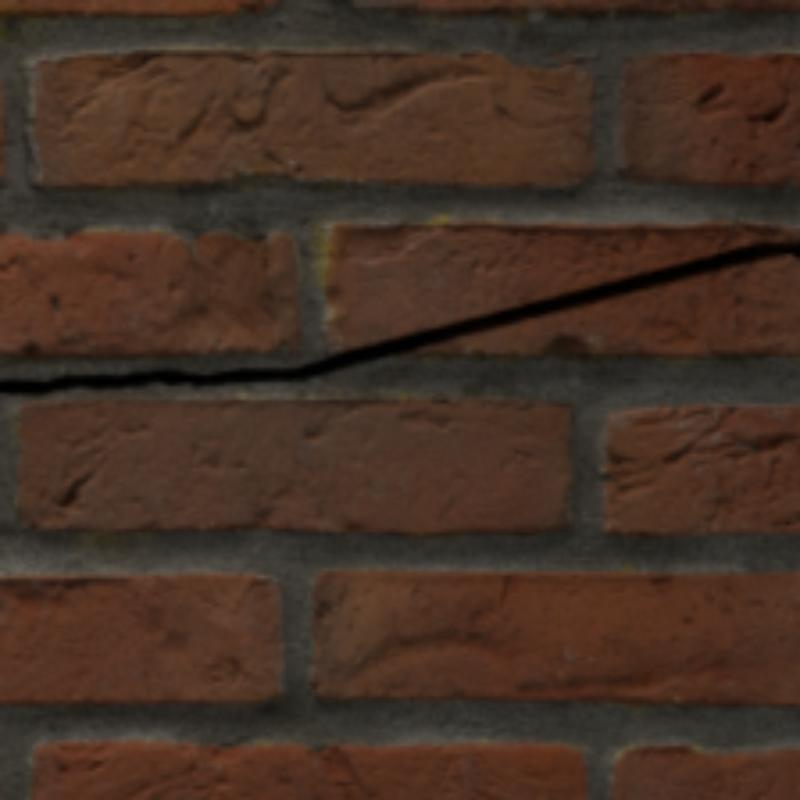pothole: (0, 243, 796, 393)
